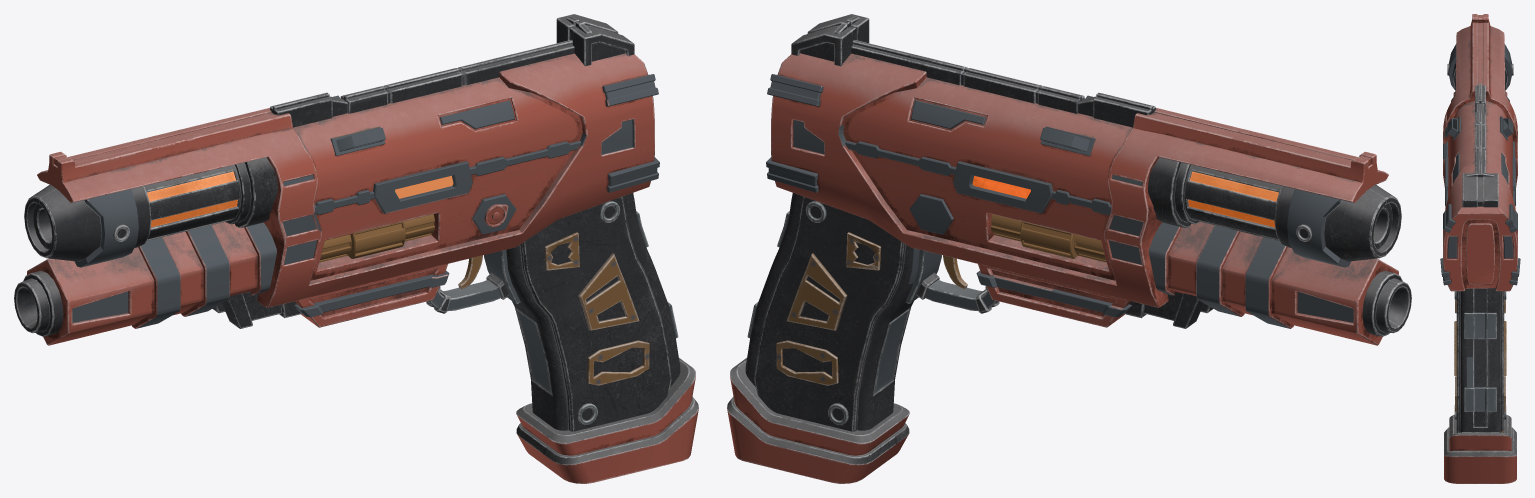
3 renders of one model, left to right at view 1: azimuth 30°, elevation 25°; view 2: azimuth 150°, elevation 25°; view 3: azimuth 270°, elevation 25°, orthographic. The views are drawn at different scales.
Visible parts, largest first — view 1: SciFiPistol; view 2: SciFiPistol; view 3: SciFiPistol.
Boxes of the visible parts, left/top/right/bottom form: SciFiPistol: left=14, top=14, right=698, bottom=483; SciFiPistol: left=727, top=14, right=1411, bottom=483; SciFiPistol: left=1440, top=14, right=1520, bottom=483.
Size of the model in its own units: 0.2554 by 0.1634 by 0.0421.
2 materials, 2 textured.
